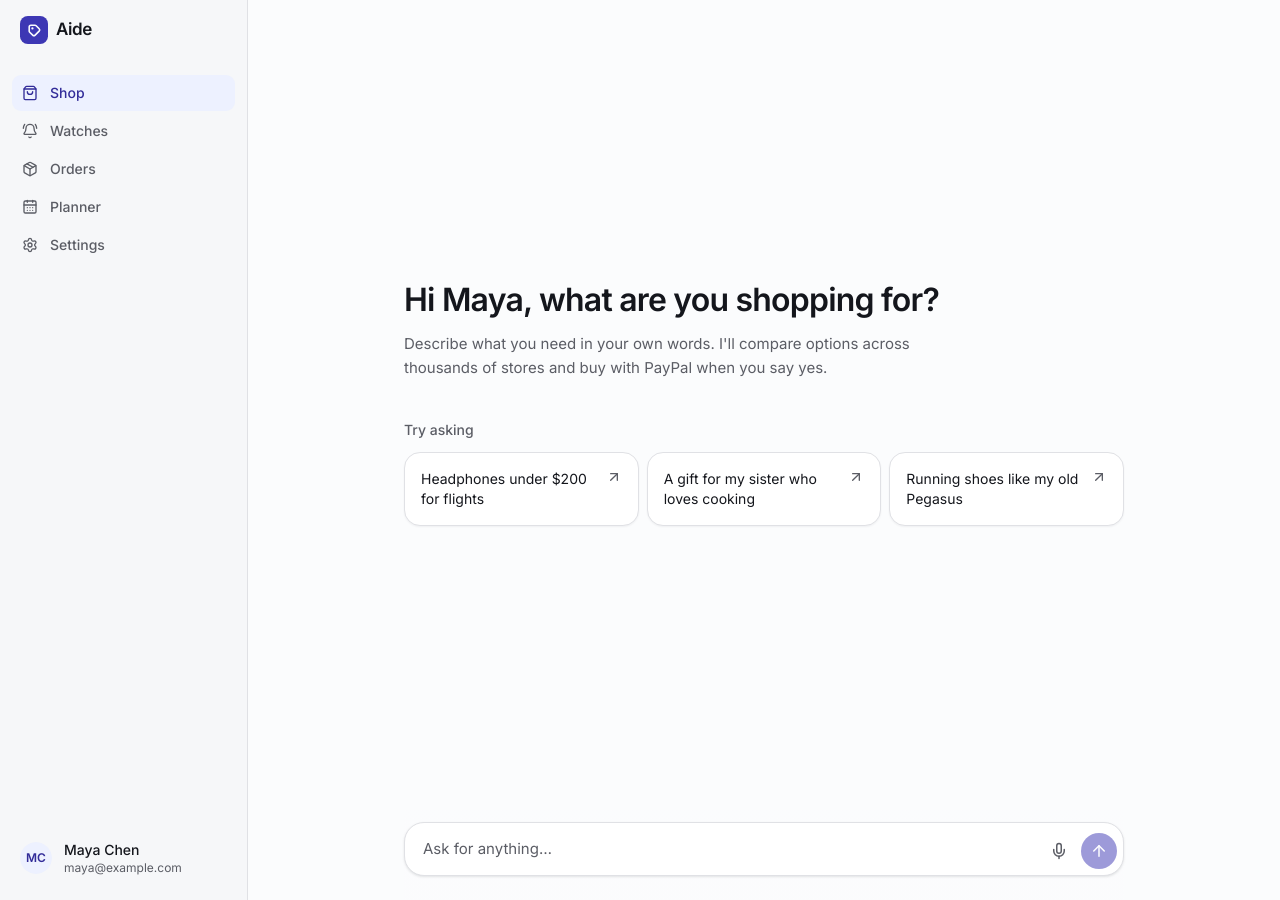
Scenario: routes › moves between sections
What coordinates should you click on to do the following:
click the link "Orders"
I would click on:
 (59, 169)
Its box is [22,160,96,177].
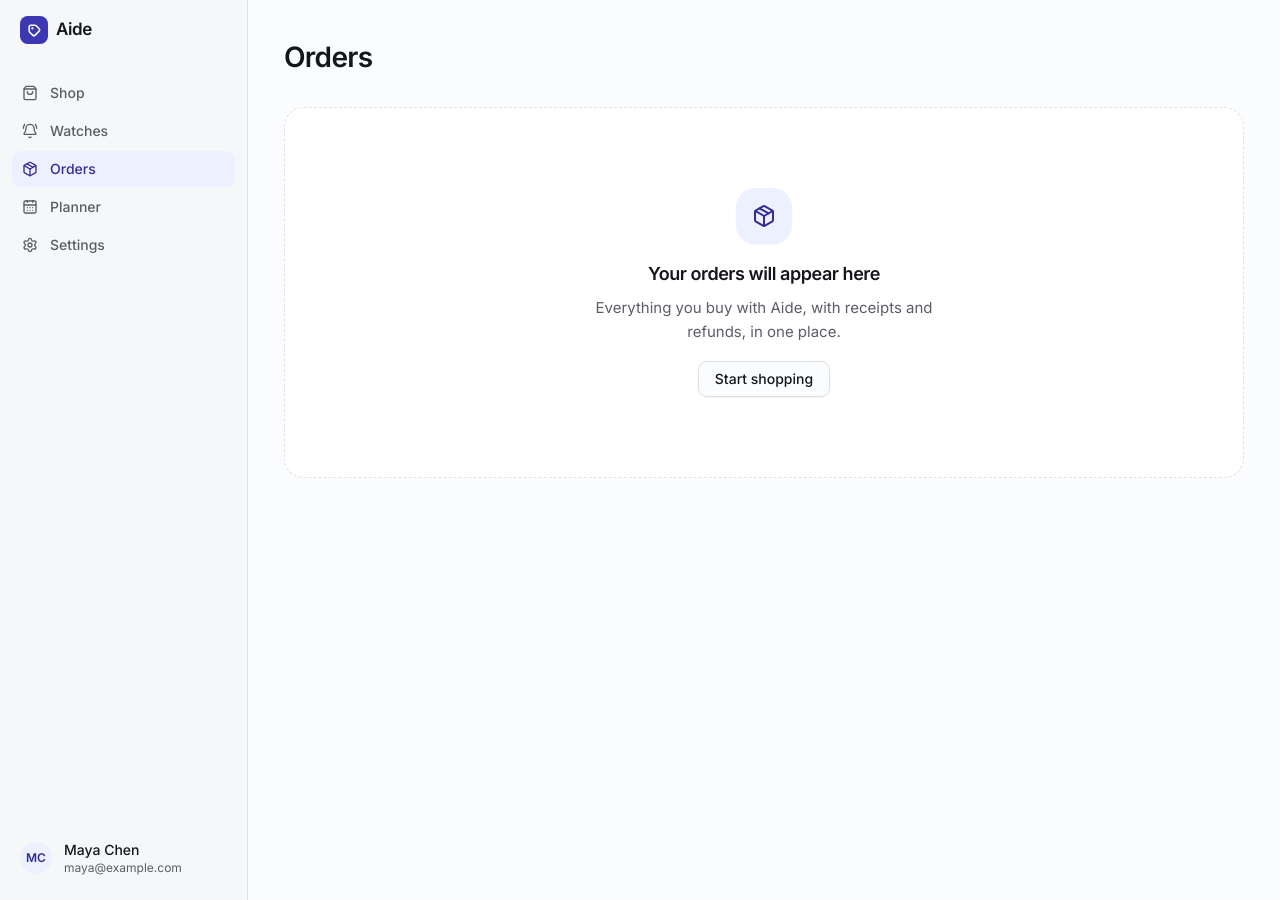
Expected: the heading "Your orders will appear here" is shown, [648,263,880,284]
